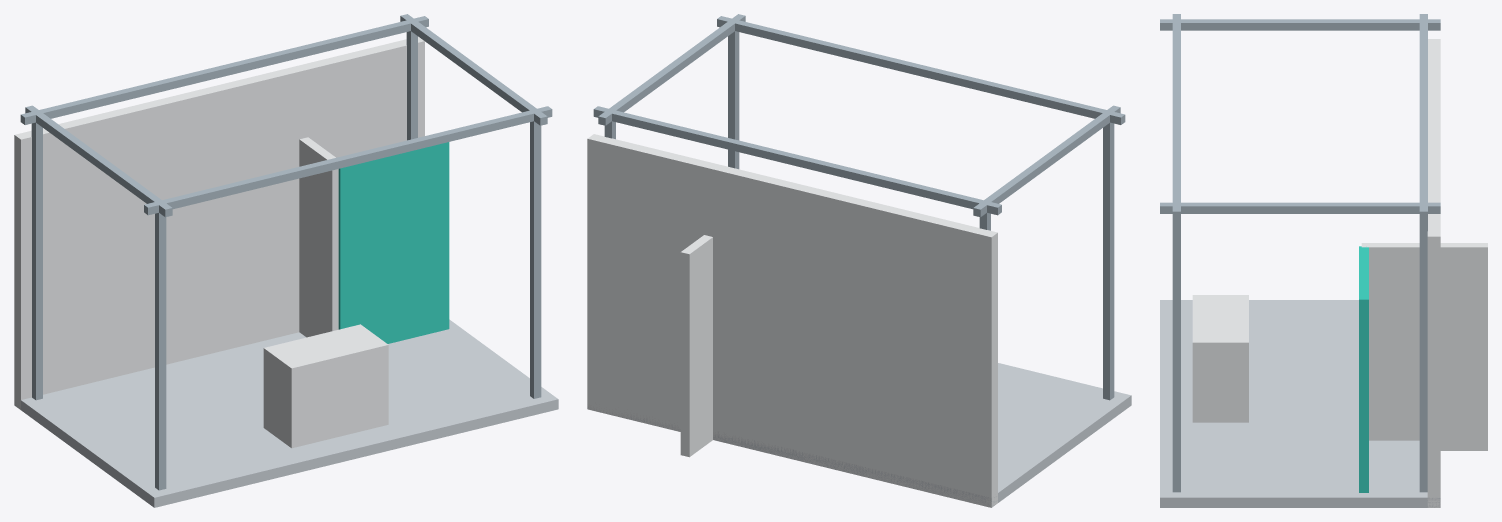
3 views of the same model, side by side, from view 1: azimuth 30°, elevation 25°; view 2: azimuth 150°, elevation 25°; view 3: azimuth 270°, elevation 25° (orthographic).
Parts seen in each view (by area): view 1: Exhibition Booth Concept; view 2: Exhibition Booth Concept; view 3: Exhibition Booth Concept.
Part boxes in pixels (box(x1,y1,x2,y2)): Exhibition Booth Concept: box(14, 14, 558, 507); Exhibition Booth Concept: box(587, 14, 1131, 507); Exhibition Booth Concept: box(1160, 14, 1487, 507).
Bounding box in the file's own units: 5 × 3.49 × 3.51.
